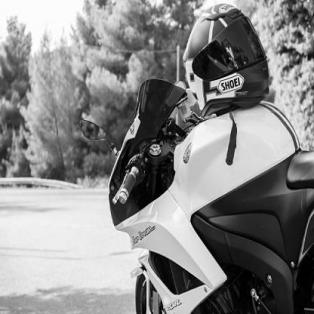Motocicleta: (100, 2, 313, 313)
